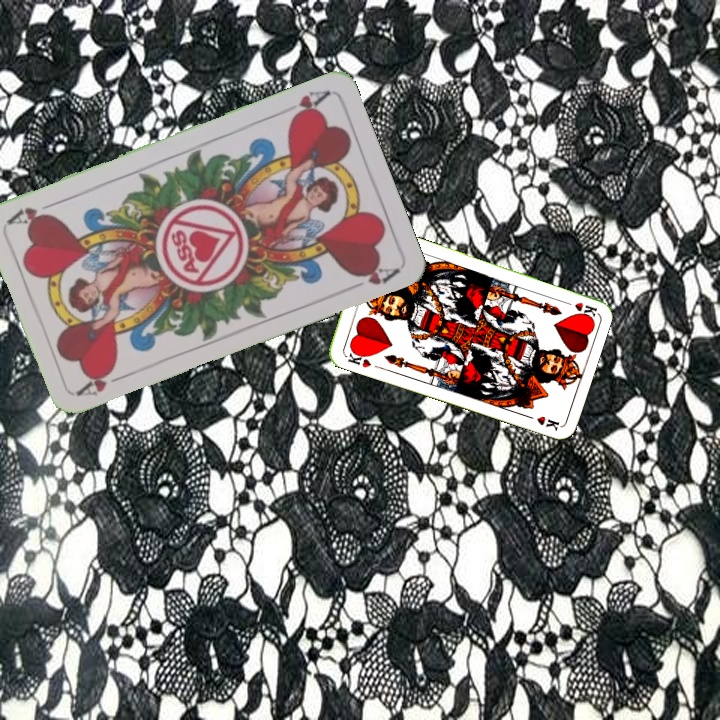HA: (73, 364, 131, 399), (285, 86, 332, 124)
HK: (558, 296, 599, 319), (344, 346, 374, 370)
